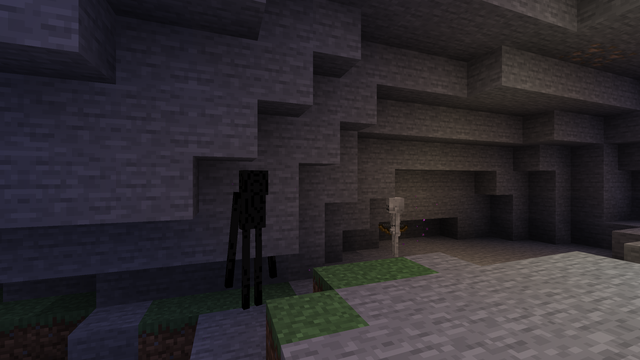endermens: (236, 165, 268, 315)
squelettes: (382, 197, 407, 257)
